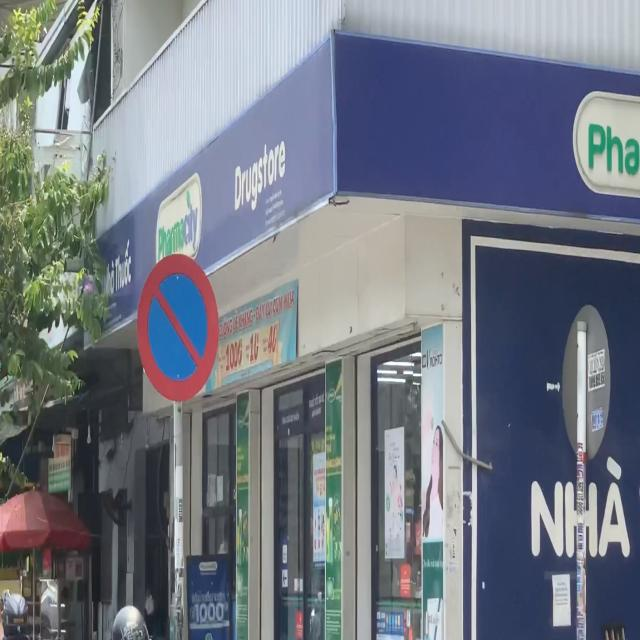Cam do: (136, 253, 220, 402)
